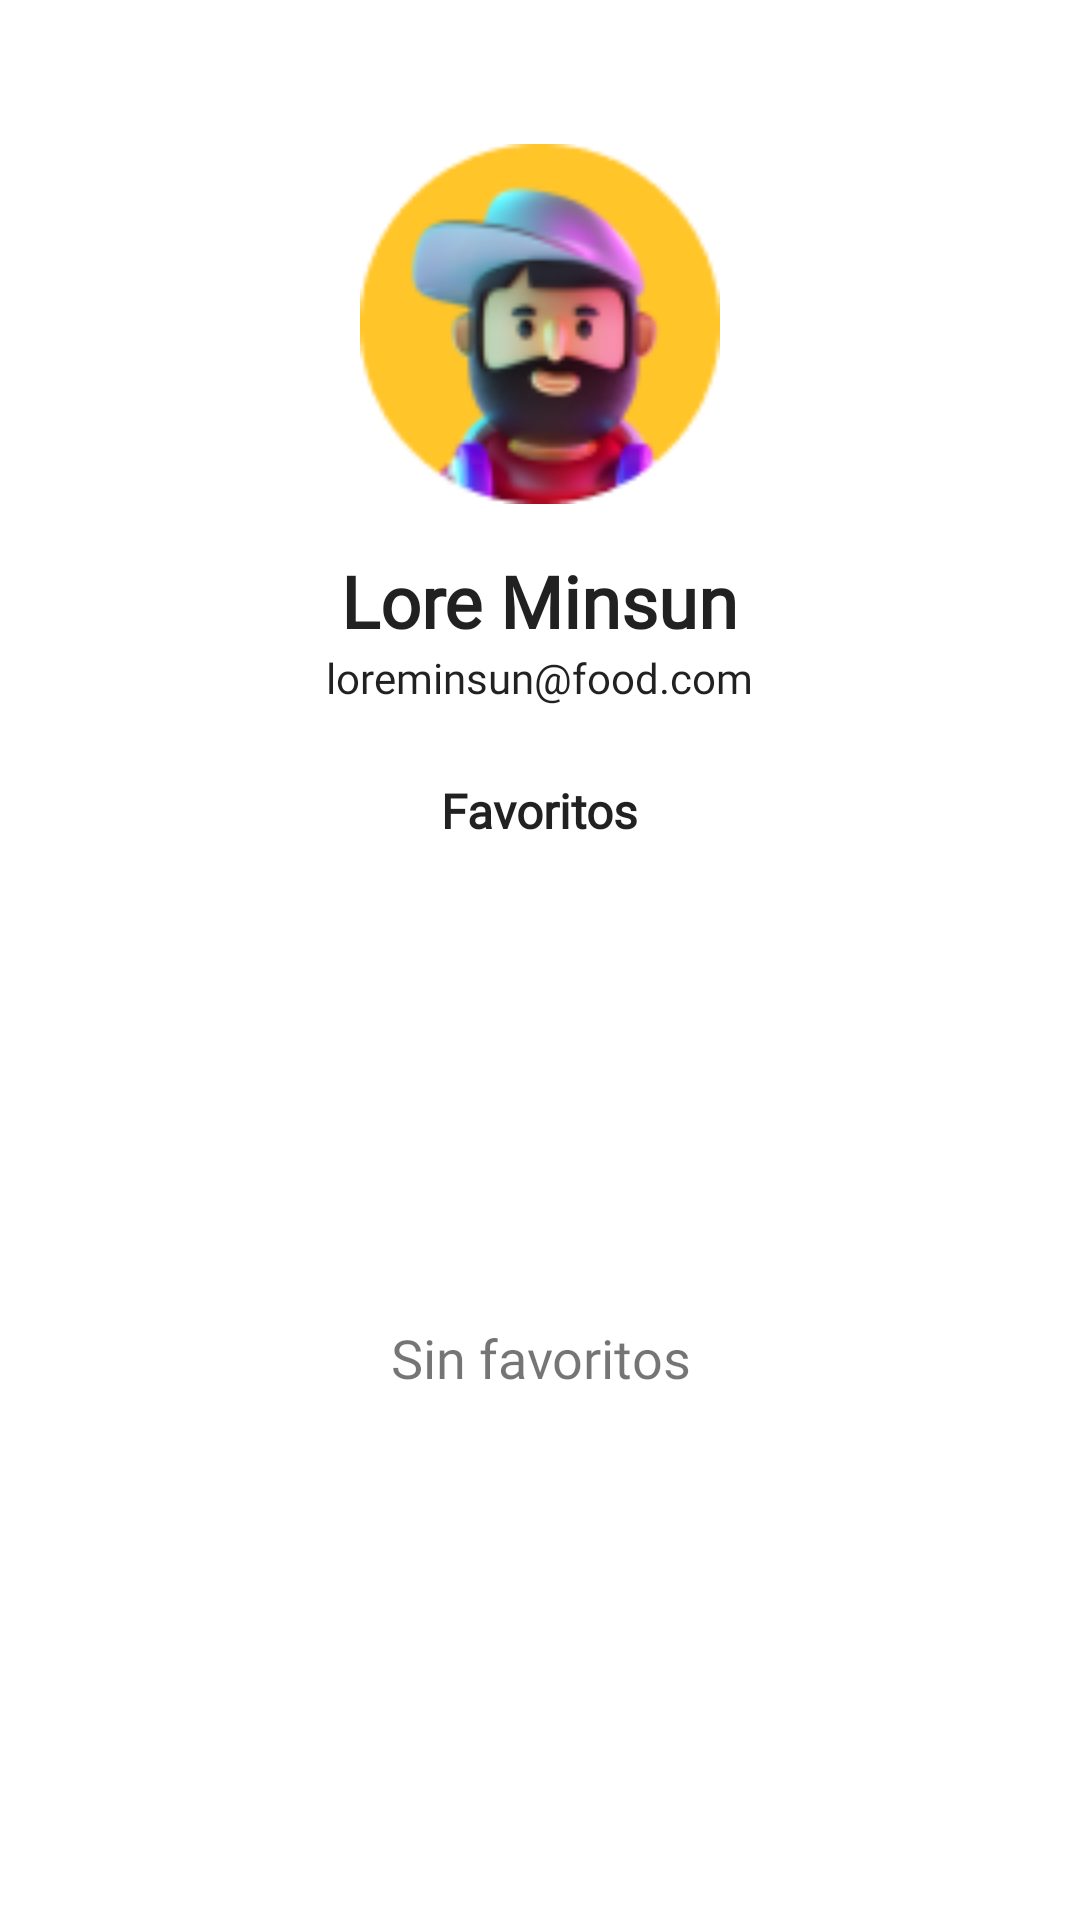

Named icons in this screenshot (1080 x 1920) and their centers, [x,y]:
profile: [540,324]
